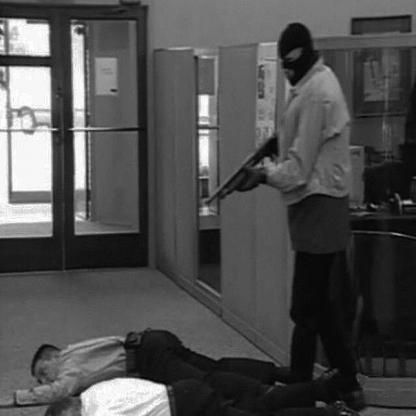guns: (194, 126, 290, 214)
